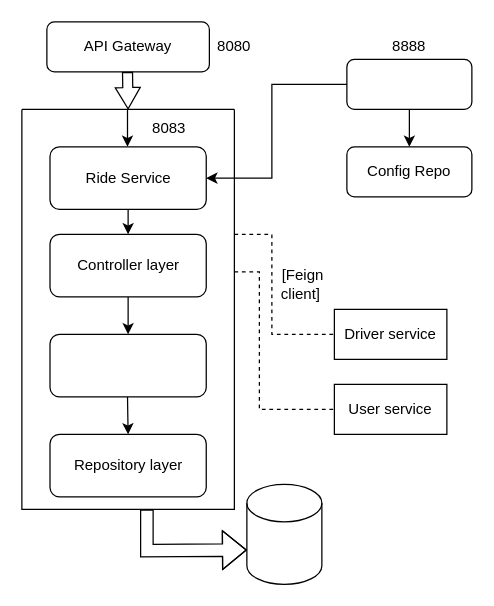
The diagram is 494 pixels wide and 606 high, and some of its shapes have lost their labels. Each missing label, with the centre of its shape:
"Config Server" belongs at point 409,83.
"Ride DB" belongs at point 284,533.
"Service Layer" belongs at point 127,365.
